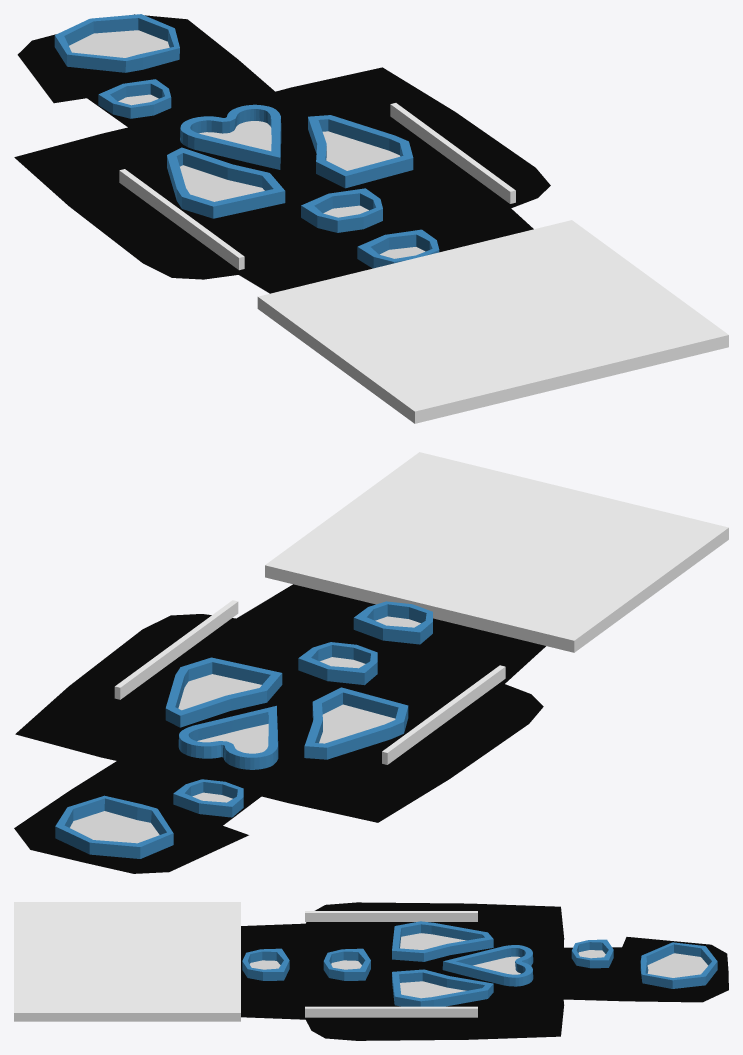
The model's file is Body Mesh.fbx.
3 renders of one model, top to bottom at view 1: azimuth 30°, elevation 25°; view 2: azimuth 150°, elevation 25°; view 3: azimuth 270°, elevation 25°, orthographic. The views are drawn at different scales.
Parts seen in each view (by area): view 1: Body_Mesh, Cube__2_, station_lungs, station_brain, station_heart, station_bladder_2, Cube, Cube__1_, station_bladder_1, station_bladder; view 2: Body_Mesh, Cube__2_, station_lungs, station_brain, station_heart, station_bladder_2, station_bladder, Cube__1_, Cube, station_bladder_1; view 3: Body_Mesh, Cube__2_, station_lungs, station_brain, station_heart, Cube__1_, Cube, station_bladder_2, station_bladder, station_bladder_1.
Boxes of the visible parts, x1=… form: Body_Mesh: x1=14, y1=14, x2=550, y2=293; Cube__2_: x1=257, y1=220, x2=728, y2=423; station_lungs: x1=167, y1=115, x2=413, y2=218; station_brain: x1=54, y1=14, x2=179, y2=72; station_heart: x1=180, y1=104, x2=281, y2=169; station_bladder_2: x1=301, y1=188, x2=382, y2=232; Cube: x1=119, y1=169, x2=244, y2=270; Cube__1_: x1=390, y1=103, x2=515, y2=203; station_bladder_1: x1=98, y1=79, x2=171, y2=118; station_bladder: x1=357, y1=229, x2=439, y2=268; Body_Mesh: x1=14, y1=584, x2=545, y2=873; Cube__2_: x1=265, y1=452, x2=728, y2=652; station_lungs: x1=165, y1=657, x2=408, y2=759; station_brain: x1=55, y1=795, x2=173, y2=858; station_heart: x1=178, y1=705, x2=278, y2=769; station_bladder_2: x1=298, y1=642, x2=377, y2=685; station_bladder: x1=353, y1=601, x2=432, y2=644; Cube__1_: x1=114, y1=600, x2=238, y2=699; Cube: x1=382, y1=665, x2=505, y2=764; station_bladder_1: x1=173, y1=779, x2=243, y2=817; Body_Mesh: x1=241, y1=902, x2=728, y2=1040; Cube__2_: x1=14, y1=902, x2=240, y2=1021; station_lungs: x1=392, y1=921, x2=493, y2=1006; station_brain: x1=640, y1=942, x2=717, y2=988; station_heart: x1=442, y1=945, x2=533, y2=986; Cube__1_: x1=305, y1=1006, x2=477, y2=1017; Cube: x1=305, y1=911, x2=477, y2=921; station_bladder_2: x1=323, y1=948, x2=370, y2=980; station_bladder: x1=242, y1=948, x2=289, y2=980; station_bladder_1: x1=571, y1=939, x2=613, y2=968.
Size of the model in its own units: 337 by 14.19 by 735.
